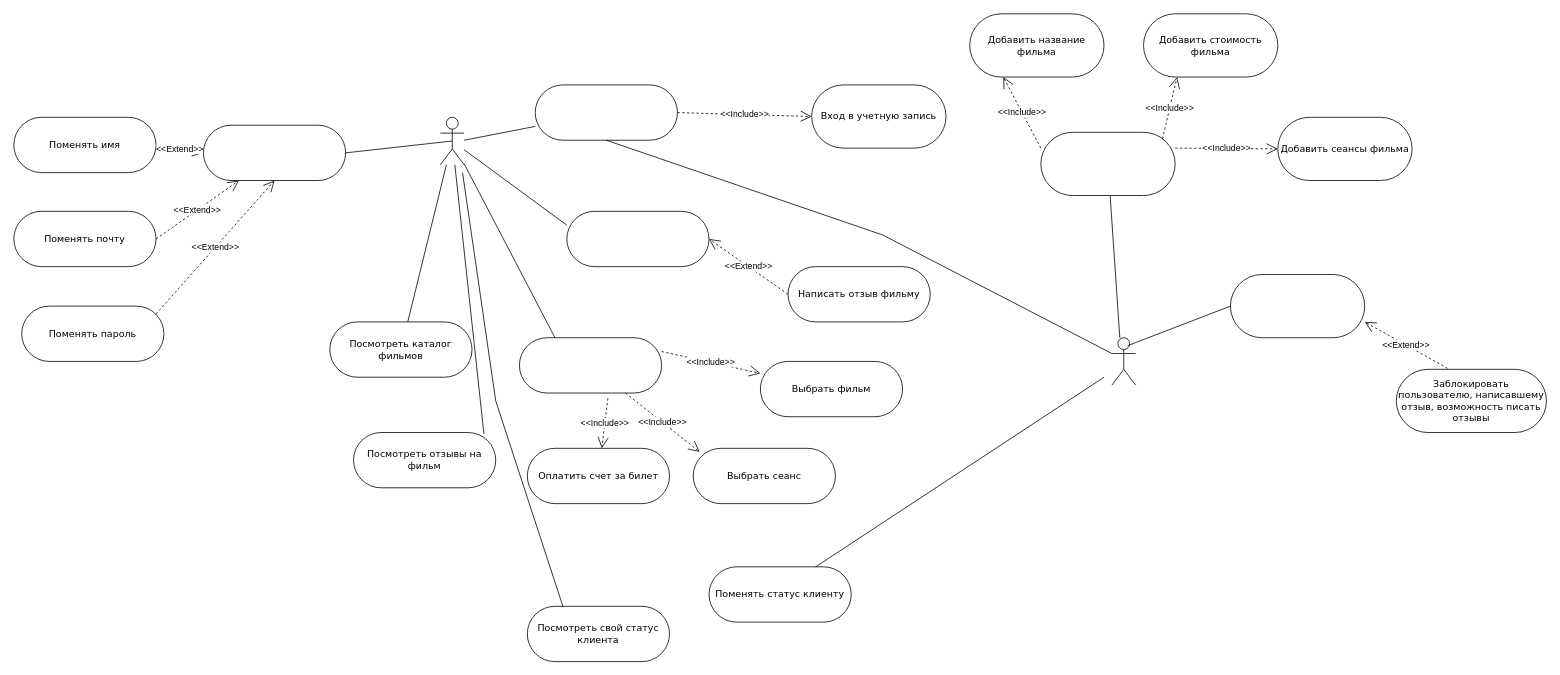
Some shapes in this 1560 by 675 pixel diagram are drawn without their labels. The box of each missing label's shape, as (x1, y1, x2, y2) in pixels:
Администратор: (1111, 337, 1136, 385)
Ввод правильного логина и пароля: (534, 84, 677, 140)
Добавить фильм: (1040, 132, 1175, 196)
Купить билет на фильм: (519, 337, 662, 393)
Пользователь: (440, 117, 464, 165)
Поставить оценку фильму: (566, 211, 709, 267)
Редактировать свой профиль: (203, 124, 346, 181)
Удалить непристойный отзыв на фильм, который пропустил внутренний фильтр: (1230, 274, 1365, 338)
